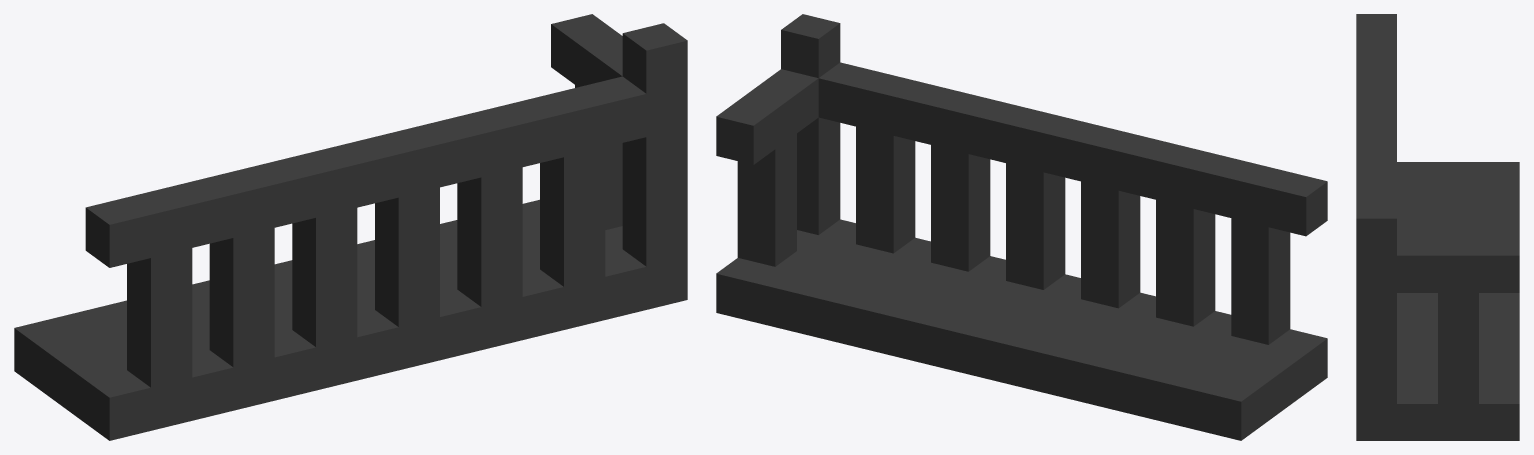
Rendered from palazzo5.glb.
The picture shows the model from 3 angles, left to right: view 1: azimuth 30°, elevation 25°; view 2: azimuth 150°, elevation 25°; view 3: azimuth 270°, elevation 25°; orthographic projection. The views are drawn at different scales.
Visible parts, largest first — view 1: Ringhiera.Sx; view 2: Ringhiera.Sx; view 3: Ringhiera.Sx.
Part boxes in pixels (<box>): Ringhiera.Sx: <box>14,14,687,440</box>; Ringhiera.Sx: <box>716,14,1327,440</box>; Ringhiera.Sx: <box>1356,14,1519,440</box>.
Bounding box in the file's own units: 14 × 6 × 4.
Materials: 1 (1 with a texture image).
